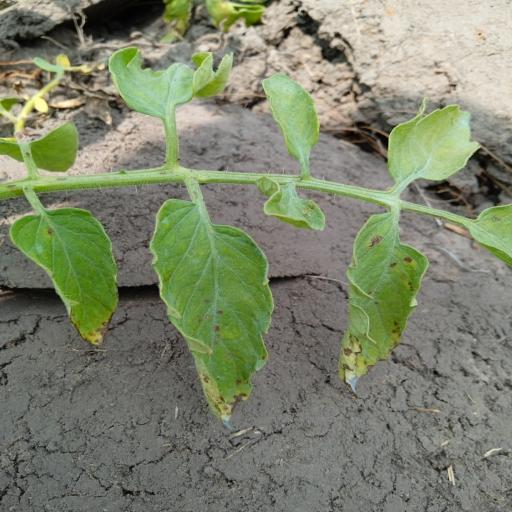Tomato_Brown_Spots: (145, 194, 279, 430), (4, 202, 128, 349), (340, 207, 422, 398), (385, 99, 484, 186)
